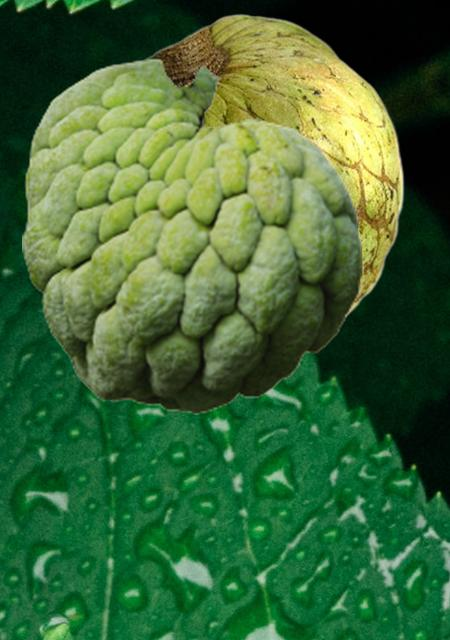atis: (22, 57, 362, 413), (136, 13, 403, 319)
